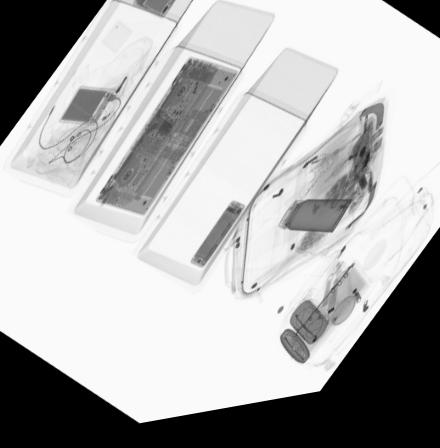Powerbank: (56, 88, 118, 129)
